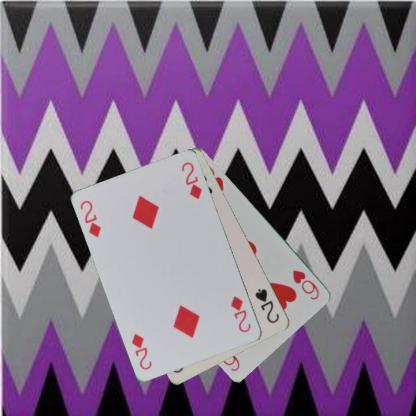2d: (228, 293, 253, 334), (78, 198, 103, 238)
2s: (252, 286, 281, 325)
6h: (289, 267, 321, 301)
